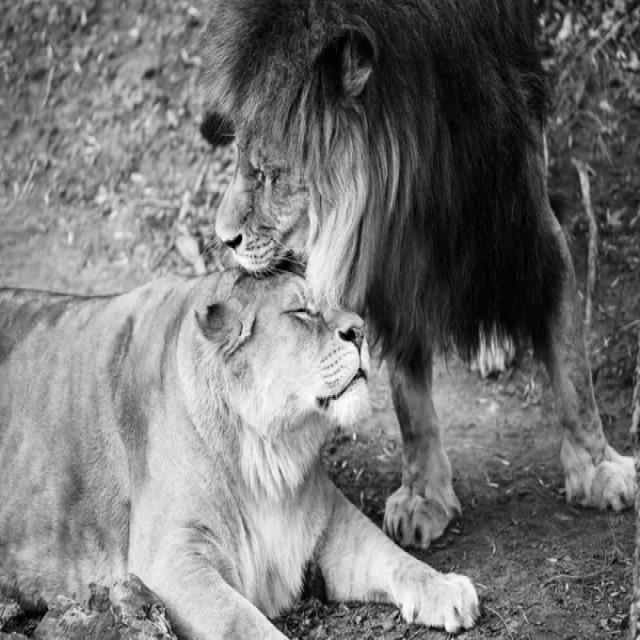Animal: (208, 2, 635, 548), (0, 269, 430, 640)
